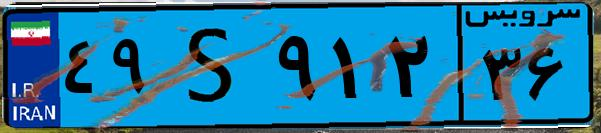1: (330, 28, 385, 110)
2: (385, 28, 445, 110)
3: (475, 38, 525, 113)
4: (57, 26, 110, 100)
6: (525, 38, 570, 115)
9: (270, 28, 330, 110), (110, 28, 158, 98)
S: (158, 12, 270, 120)
